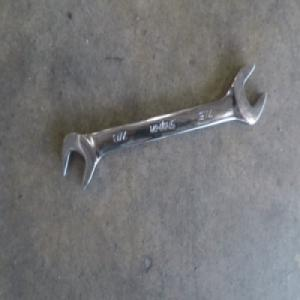Wrench: (64, 64, 266, 192)
